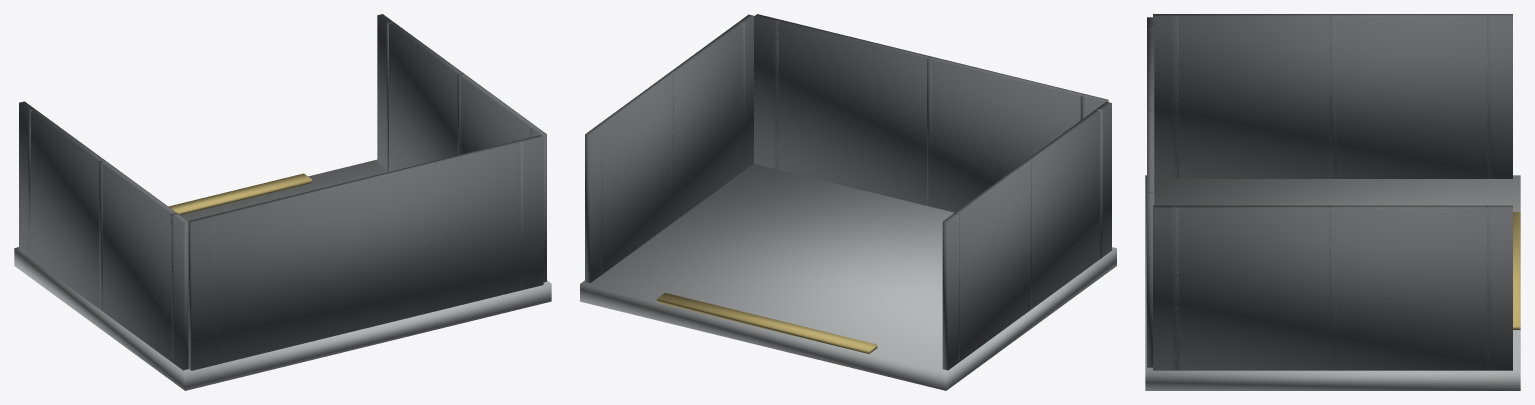
The model's file is floor_w260_d210_three.glb.
3 renders of one model, left to right at view 1: azimuth 30°, elevation 25°; view 2: azimuth 150°, elevation 25°; view 3: azimuth 270°, elevation 25°, orthographic. The views are drawn at different scales.
Parts seen in each view (by area): view 1: world; view 2: world; view 3: world.
Boxes of the visible parts, x1,y1,x2,y2 form: world: (14,14,551,390); world: (580,14,1116,390); world: (1145,14,1520,390).
Bounding box in the file's own units: 2.6 × 1.12 × 2.1.
